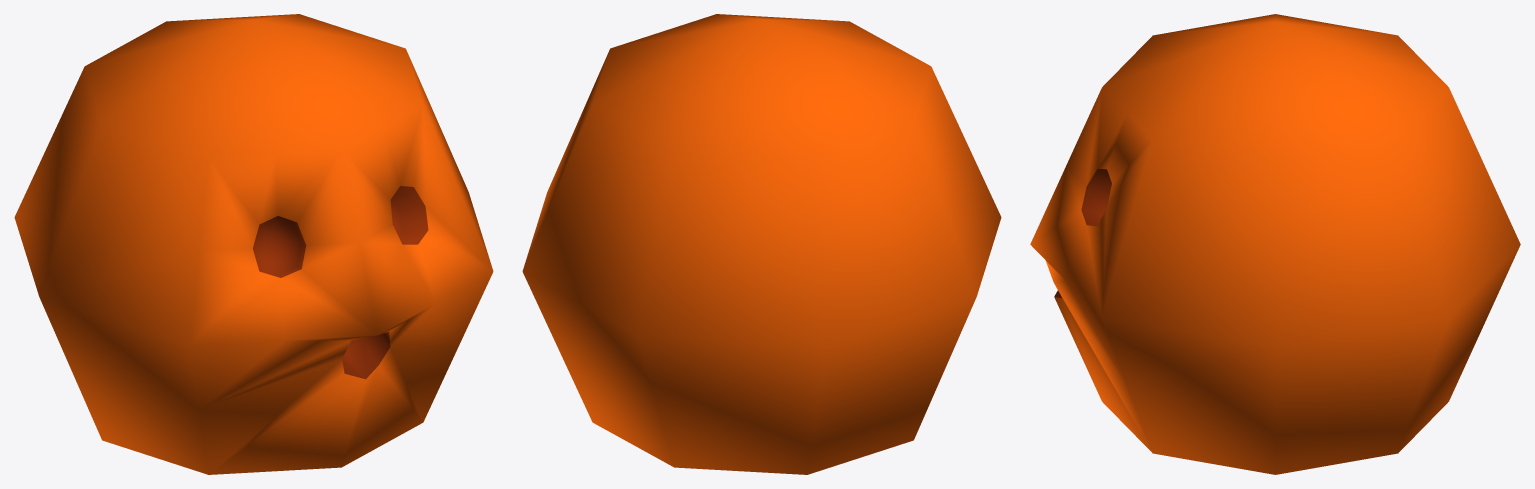
File: BolaPerforante.fbx
The picture shows the model from 3 angles, left to right: view 1: azimuth 30°, elevation 25°; view 2: azimuth 150°, elevation 25°; view 3: azimuth 270°, elevation 25°; orthographic projection.
Visible parts, largest first — view 1: Sphere; view 2: Sphere; view 3: Sphere.
Part boxes in pixels (x1,y1,x2,y2): Sphere: (14,14,493,474); Sphere: (522,14,1001,474); Sphere: (1030,14,1520,474).
Bounding box in the file's own units: 70 × 70 × 70.
